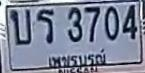0: (104, 5, 118, 40)
3: (67, 7, 81, 41)
4: (122, 4, 136, 39)
7: (84, 6, 99, 41)
A26: (9, 9, 31, 44)
A35: (36, 8, 53, 43)
PNB: (44, 48, 109, 67)
